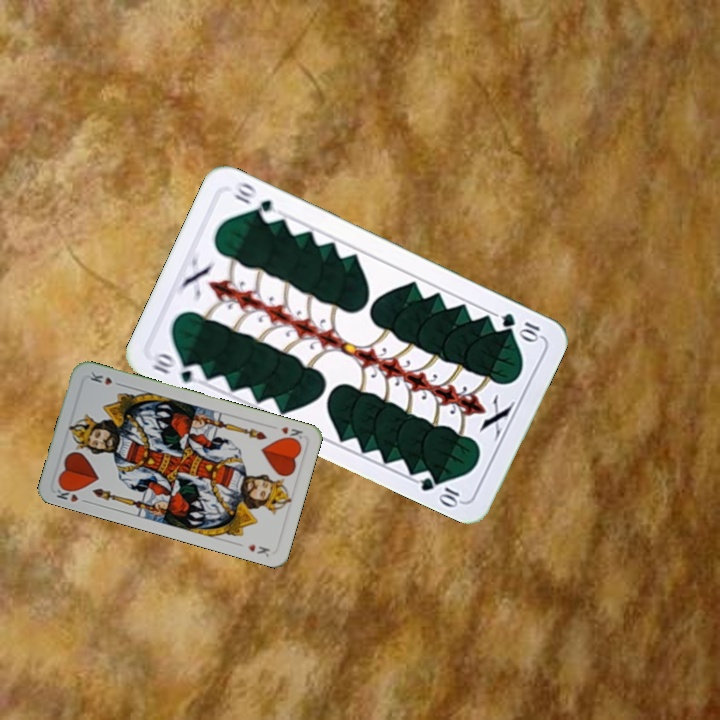G10: (147, 349, 207, 387), (496, 308, 544, 344)
HK: (51, 481, 81, 505), (277, 422, 306, 445)
